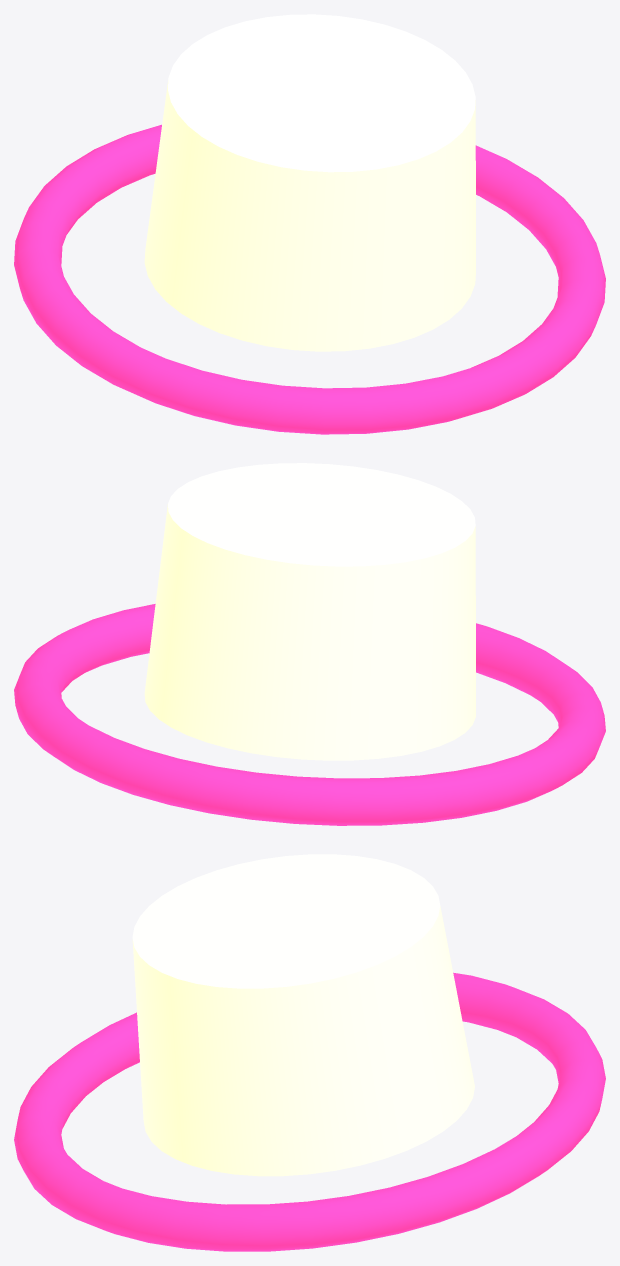
Rendered from pp_light_bumper1.glb.
The picture shows the model from 3 angles, top to bottom: view 1: azimuth 30°, elevation 25°; view 2: azimuth 150°, elevation 25°; view 3: azimuth 270°, elevation 25°; orthographic projection.
Visible parts, largest first — view 1: BumperFlash, BumperRing; view 2: BumperFlash, BumperRing; view 3: BumperFlash, BumperRing.
Part boxes in pixels (left/top/right/bottom): BumperFlash: left=144, top=14, right=475, bottom=351; BumperRing: left=14, top=124, right=605, bottom=434; BumperFlash: left=144, top=463, right=475, bottom=760; BumperRing: left=14, top=604, right=605, bottom=825; BumperFlash: left=132, top=854, right=474, bottom=1176; BumperRing: left=14, top=972, right=605, bottom=1251.
Bounding box in the file's own units: 0.1 × 0.0468 × 0.0994.
